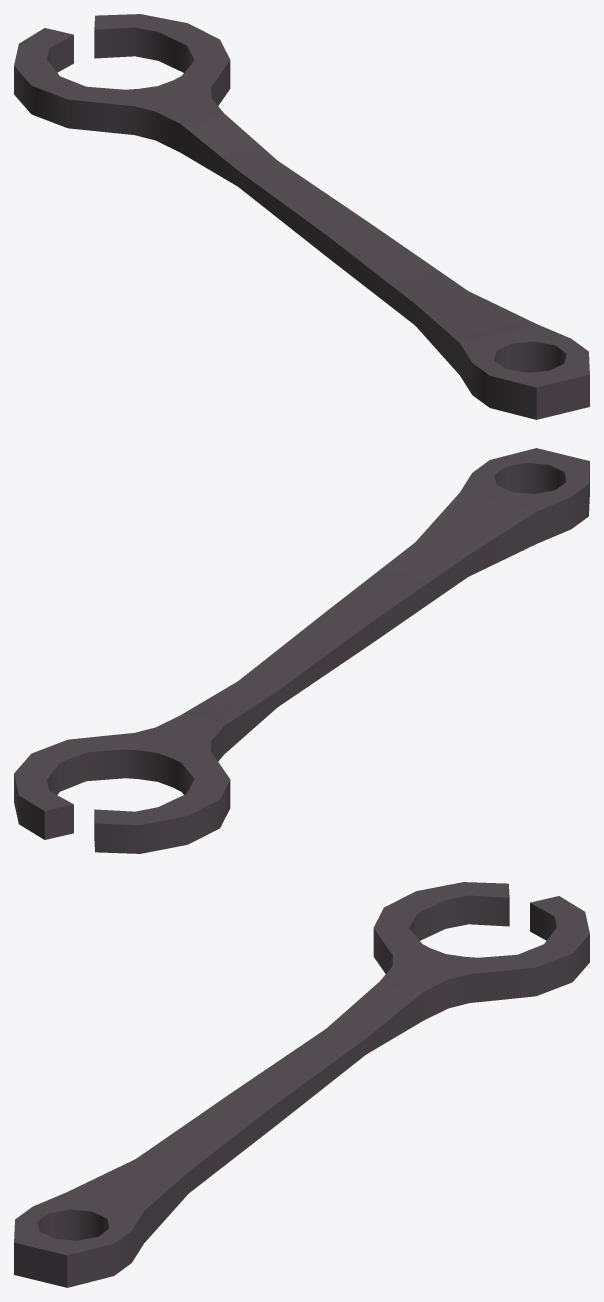
Rendered from SM_tool_04.fbx.
3 views of the same model, one above another, from view 1: azimuth 30°, elevation 25°; view 2: azimuth 150°, elevation 25°; view 3: azimuth 330°, elevation 25° (orthographic).
Parts seen in each view (by area): view 1: tool_04; view 2: tool_04; view 3: tool_04.
Part boxes in pixels (x1,y1,x2,y2): tool_04: (14,14,589,419); tool_04: (14,448,589,853); tool_04: (14,882,589,1287).
Bounding box in the file's own units: 16.62 × 2.72 × 75.27.
